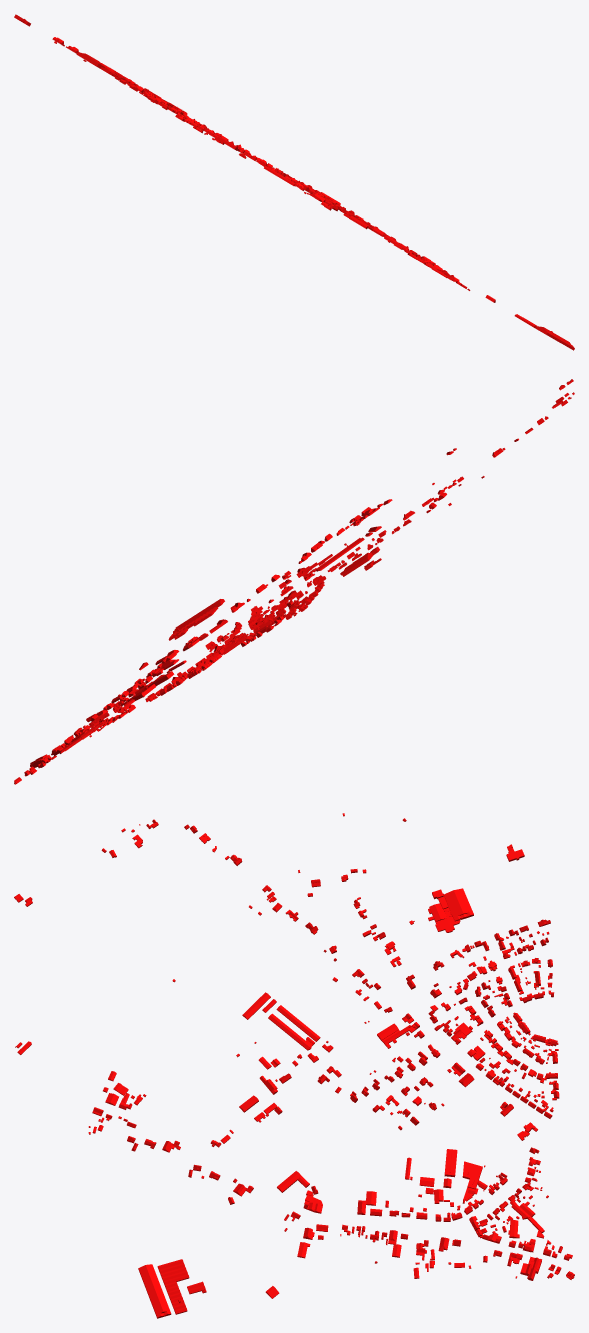
The picture shows the model from 3 angles, top to bottom: view 1: azimuth 30°, elevation 25°; view 2: azimuth 150°, elevation 25°; view 3: azimuth 270°, elevation 25°; orthographic projection. The views are drawn at different scales.
Parts seen in each view (by area): view 1: mesh; view 2: mesh; view 3: mesh.
Boxes of the visible parts, left/top/right/bottom form: mesh: left=14, top=14, right=574, bottom=350; mesh: left=14, top=379, right=574, bottom=784; mesh: left=14, top=813, right=574, bottom=1318.
Size of the model in its own units: 853 by 655 by 1055.
